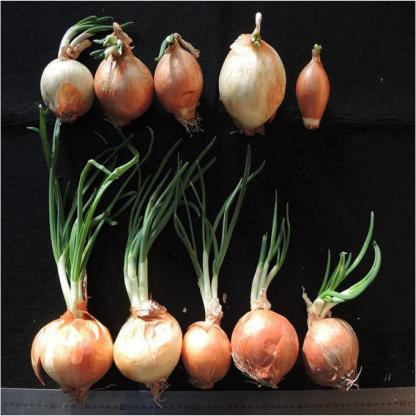onion: (42, 312, 118, 404), (224, 35, 282, 138), (121, 309, 187, 396), (233, 312, 297, 394), (94, 51, 155, 132), (151, 46, 210, 121), (180, 319, 238, 394), (308, 318, 366, 388), (45, 62, 98, 123), (294, 59, 328, 136)
